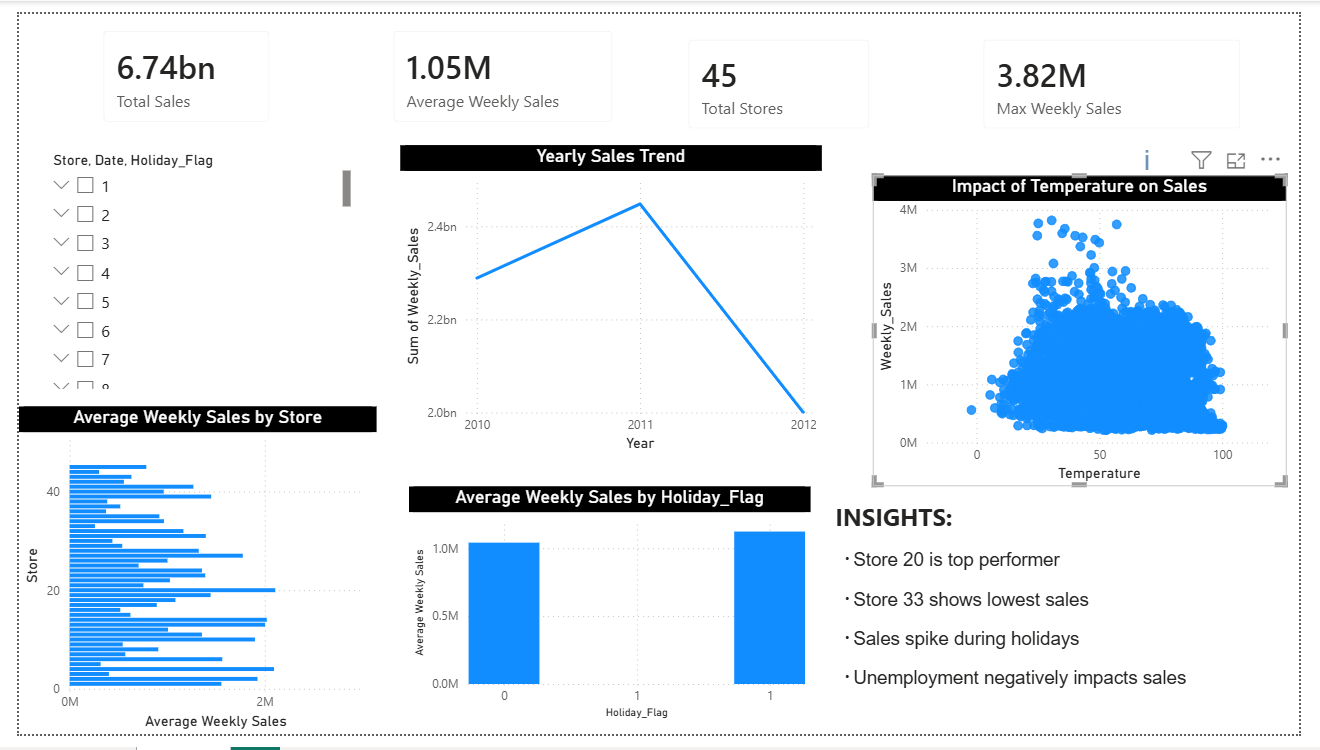

This screenshot's page, from the dashboard's own definition file:
{"tool":"powerbi","page":{"name":"Page 1","canvas":[1280,720],"ordinal":0},"visuals":[{"type":"cardVisual","fields":{"Data":["Walmart DataSet.Total Sales"]},"box":[67.5,0,200,125],"z":0},{"type":"cardVisual","fields":{"Data":["Walmart DataSet.Average Weekly Sales"]},"box":[357.5,0,253.8,125],"z":1},{"type":"cardVisual","fields":{"Data":["Walmart DataSet.Total Stores"]},"box":[652.5,8.8,215,123.8],"z":2},{"type":"cardVisual","title":"Max Weekly Sales","fields":{"Data":["Max(Walmart DataSet.Max Weekly Sales)"]},"box":[947.5,8.8,291.2,123.8],"z":4},{"type":"lineChart","title":"Yearly Sales Trend","fields":{"Category":["Walmart DataSet.Date.Variation.Date Hierarchy.Year","Walmart DataSet.Date.Variation.Date Hierarchy.Quarter","Walmart DataSet.Date.Variation.Date Hierarchy.Month","Walmart DataSet.Date.Variation.Date Hierarchy.Day"],"Y":["Sum(Walmart DataSet.Weekly_Sales)"]},"box":[381.2,131.2,421.2,311.2],"z":5},{"type":"barChart","fields":{"Category":["Walmart DataSet.Store"],"Y":["Walmart DataSet.Average Weekly Sales"]},"box":[0,392.5,357.5,327.5],"z":6},{"type":"scatterChart","title":"Impact of Temperature on Sales","fields":{"X":["Walmart DataSet.Temperature"],"Y":["Walmart DataSet.Weekly_Sales"]},"box":[853.8,161.2,413.8,311.2],"z":7},{"type":"columnChart","fields":{"Category":["Walmart DataSet.Holiday_Flag"],"Y":["Walmart DataSet.Average Weekly Sales"]},"box":[390,472.5,401.2,237.5],"z":8},{"type":"slicer","fields":{"Values":["Walmart DataSet.Store","Walmart DataSet.Date","Walmart DataSet.Holiday_Flag"]},"box":[21.2,132.5,315,247.5],"z":9},{"type":"textbox","box":[811.2,481.2,440,238.8],"z":10}]}

Visuals, with their boxes in screenshot pixels (x1, y1, x2, y2), scaled from the page's 1280x720 canvas onto the 1320x750 screenshot:
cardVisual - Walmart DataSet.Total Sales: 70,0,276,130
cardVisual - Walmart DataSet.Average Weekly Sales: 369,0,630,130
cardVisual - Walmart DataSet.Total Stores: 673,9,895,138
"Max Weekly Sales" cardVisual: 977,9,1277,138
"Yearly Sales Trend" lineChart: 393,137,827,461
barChart - Walmart DataSet.Store x Walmart DataSet.Average Weekly Sales: 0,409,369,749
"Impact of Temperature on Sales" scatterChart: 880,168,1307,492
columnChart - Walmart DataSet.Holiday_Flag x Walmart DataSet.Average Weekly Sales: 402,492,816,740
slicer - Walmart DataSet.Store x Walmart DataSet.Date: 22,138,347,396
textbox: 837,501,1290,749
